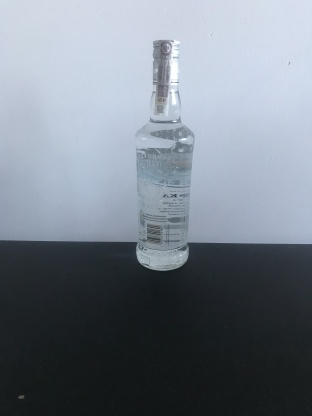nakretka: (150, 36, 182, 88)
